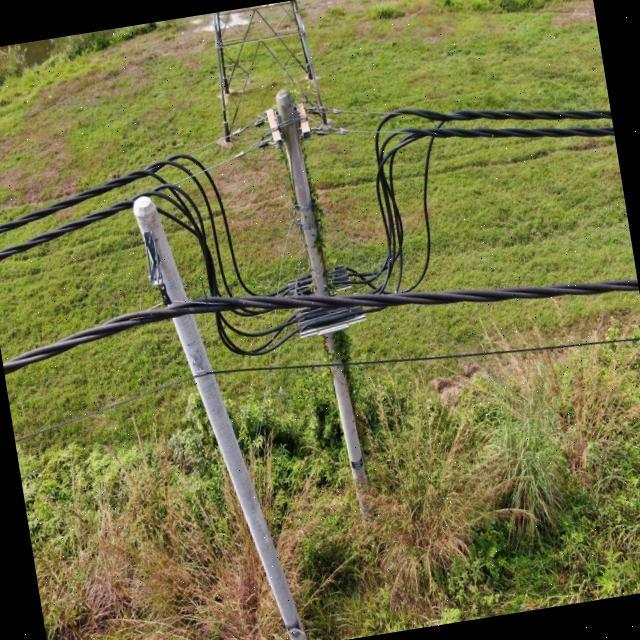critical vegetation: (275, 118, 374, 455)
